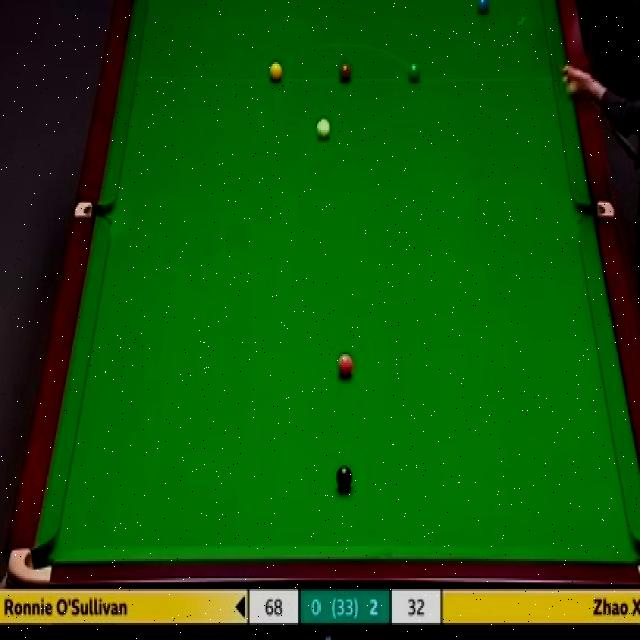black-ball: (336, 464, 353, 492)
blue-ball: (476, 0, 488, 11)
brown-ball: (338, 64, 352, 82)
green-ball: (407, 60, 422, 85)
pink-ball: (337, 352, 354, 382)
white-ball: (316, 117, 332, 140)
yellow-ball: (268, 61, 283, 83)
